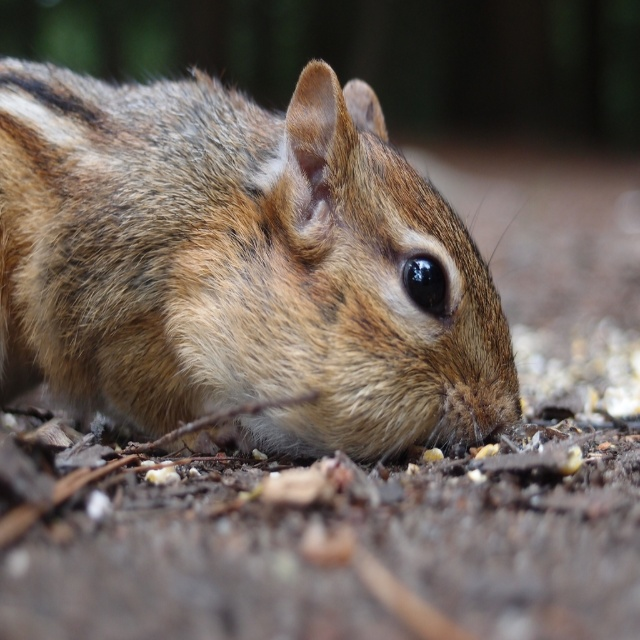Squirrel: (0, 56, 538, 474)
